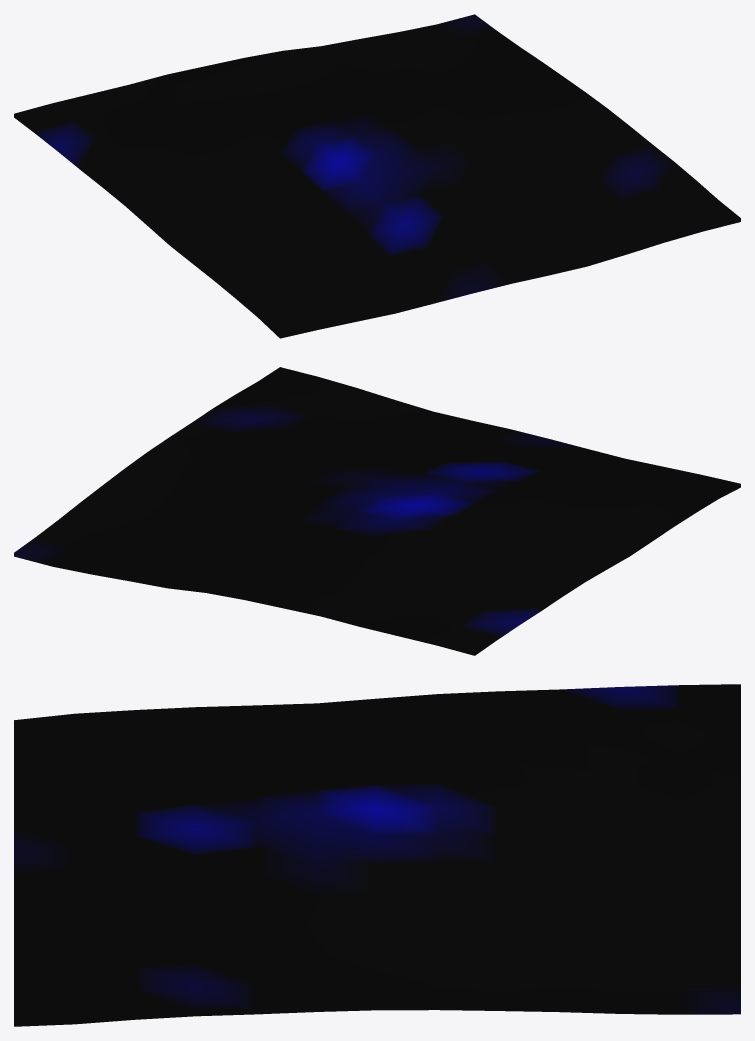
The model's file is coast_19_2.glb.
3 renders of one model, top to bottom at view 1: azimuth 30°, elevation 25°; view 2: azimuth 150°, elevation 25°; view 3: azimuth 270°, elevation 25°, orthographic. The views are drawn at different scales.
Parts seen in each view (by area): view 1: terrain; view 2: terrain; view 3: terrain.
Boxes of the visible parts, x1=… form: terrain: x1=14, y1=14, x2=740, y2=338; terrain: x1=14, y1=367, x2=740, y2=655; terrain: x1=14, y1=684, x2=740, y2=1026.
Bounding box in the file's own units: 192 × 14.83 × 192.
